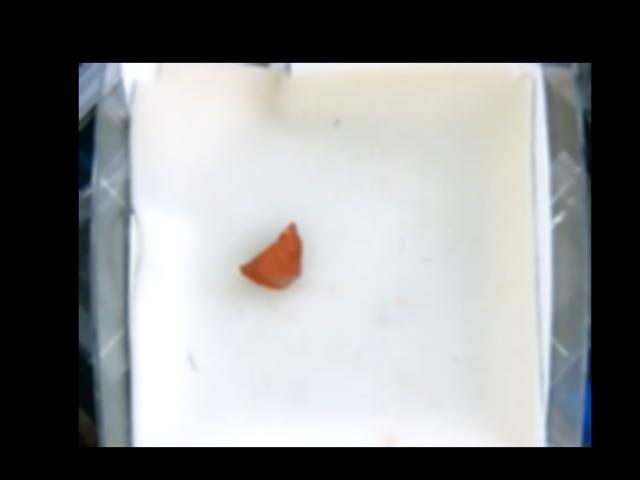Brisk: (238, 220, 302, 291)
